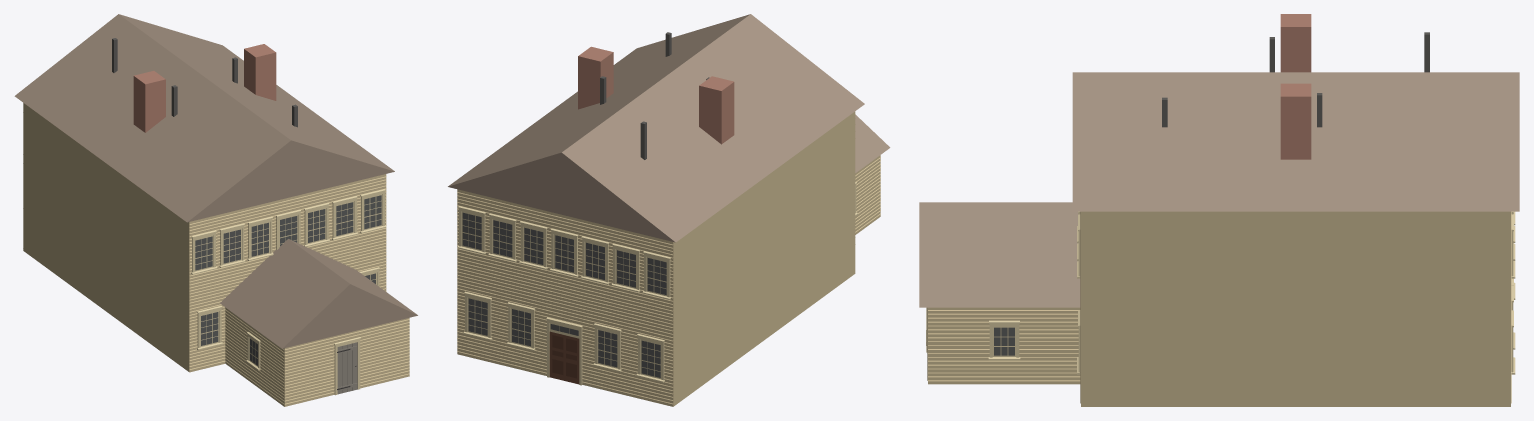
The model's file is recon_1835_blk_washington_market_h3_01__inferred_1835.glb.
The picture shows the model from 3 angles, left to right: view 1: azimuth 30°, elevation 25°; view 2: azimuth 150°, elevation 25°; view 3: azimuth 270°, elevation 25°; orthographic projection. The views are drawn at different scales.
Visible parts, largest first — view 1: recon_1835_blk_washington_market_h3_01__inferred_1835; view 2: recon_1835_blk_washington_market_h3_01__inferred_1835; view 3: recon_1835_blk_washington_market_h3_01__inferred_1835.
Part boxes in pixels (box(x1,y1,x2,y2)): recon_1835_blk_washington_market_h3_01__inferred_1835: box(14, 14, 417, 406); recon_1835_blk_washington_market_h3_01__inferred_1835: box(448, 14, 890, 406); recon_1835_blk_washington_market_h3_01__inferred_1835: box(919, 14, 1519, 406).
Size of the model in its own units: 9.16 by 9.39 by 17.65.
